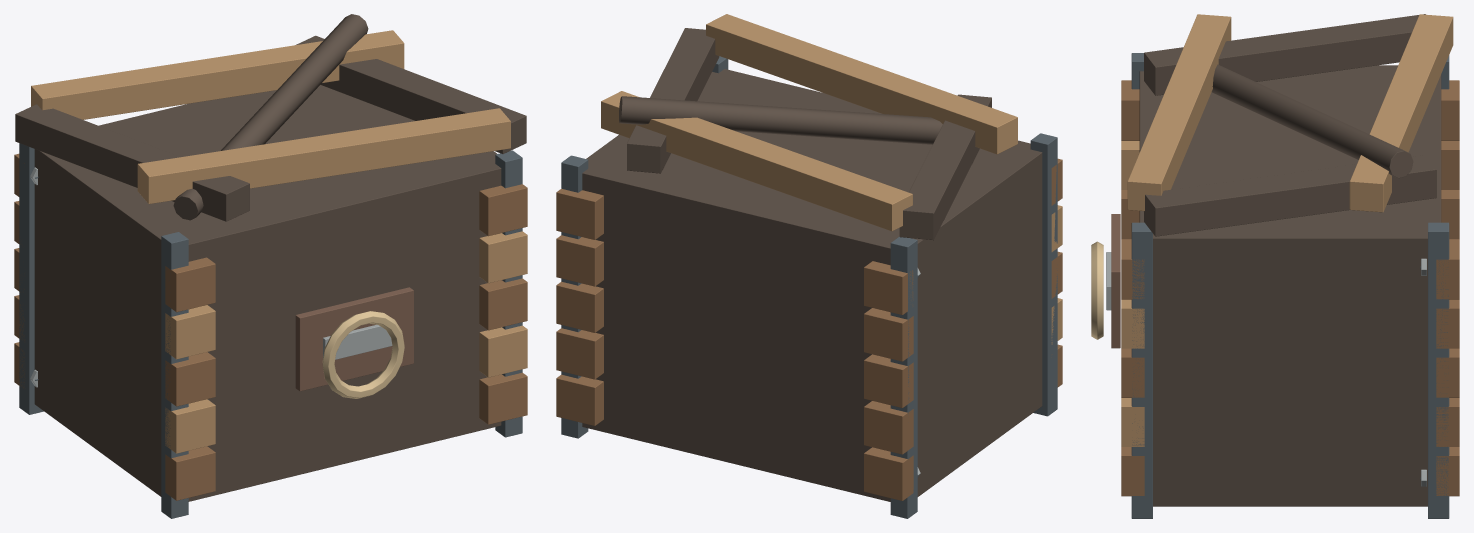
The model's file is 11_Wooden_Storage_Crate.fbx.
3 views of the same model, side by side, from view 1: azimuth 30°, elevation 25°; view 2: azimuth 150°, elevation 25°; view 3: azimuth 270°, elevation 25° (orthographic). The views are drawn at different scales.
Visible parts, largest first — view 1: 11_Wooden_Storage_Crate; view 2: 11_Wooden_Storage_Crate; view 3: 11_Wooden_Storage_Crate.
Boxes of the visible parts, bbox=[...] form: 11_Wooden_Storage_Crate: bbox=[14, 14, 527, 518]; 11_Wooden_Storage_Crate: bbox=[556, 14, 1062, 518]; 11_Wooden_Storage_Crate: bbox=[1091, 14, 1459, 518].
Bounding box in the file's own units: 1.74 × 1.45 × 1.39.
